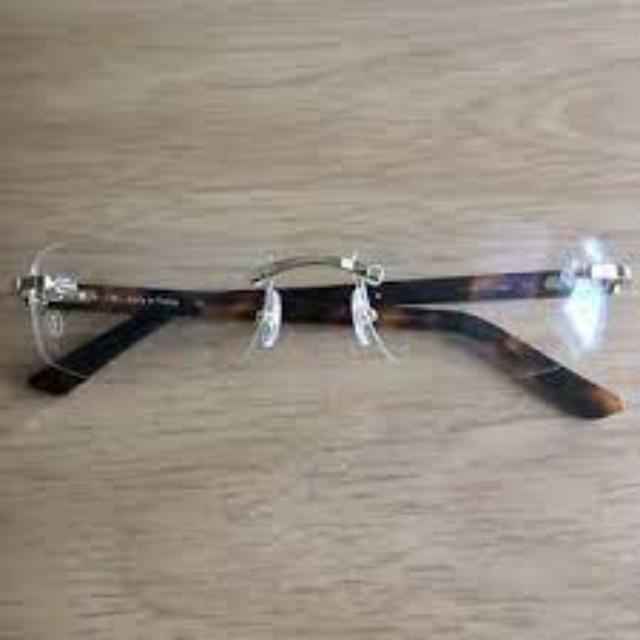mask: (14, 182, 624, 438)
